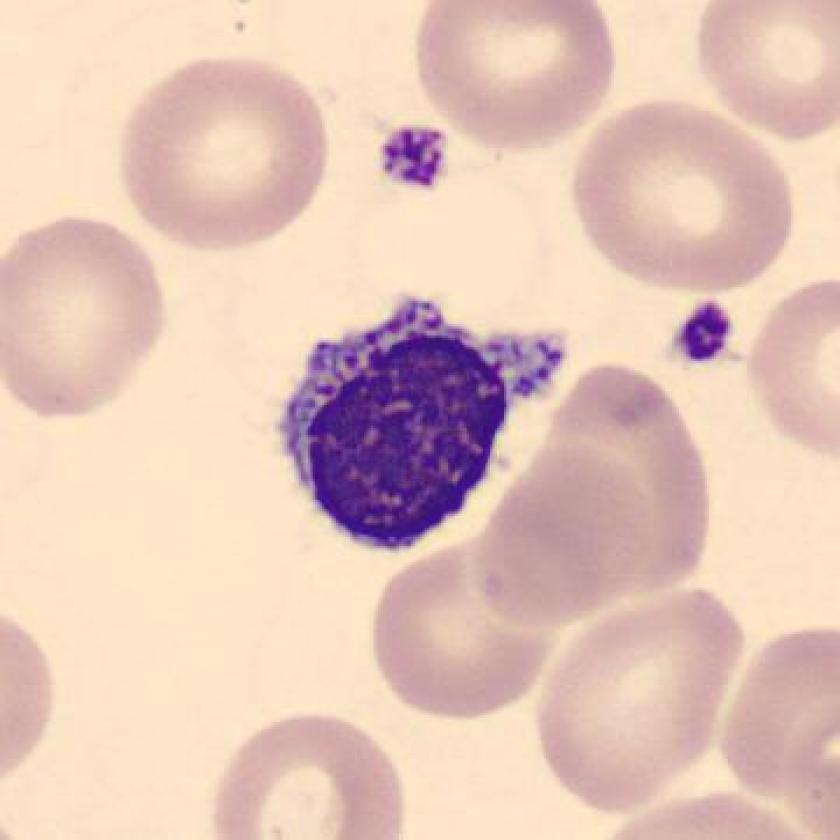lymphocyte: (267, 286, 587, 577)
